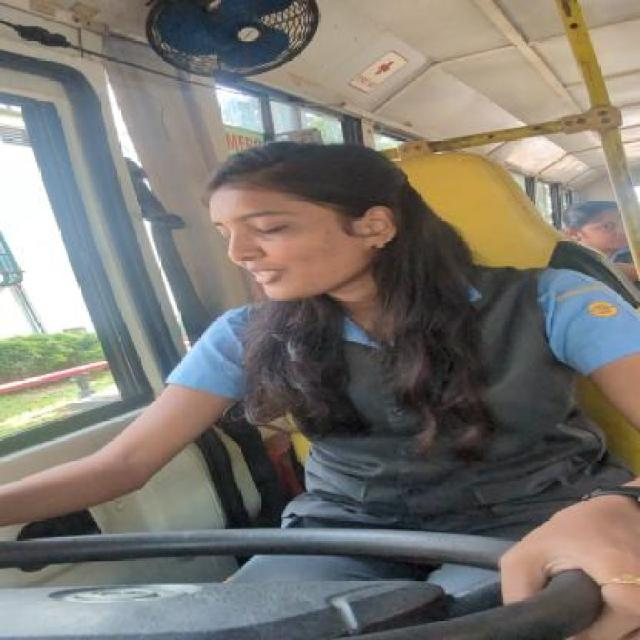Inattentive: (206, 140, 421, 298)
